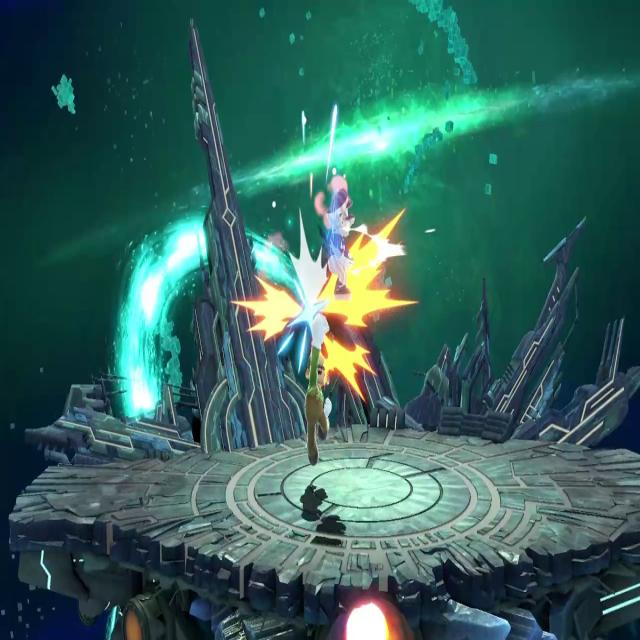Mario: (320, 184, 360, 305)
Mario-UT: (302, 310, 339, 469)
